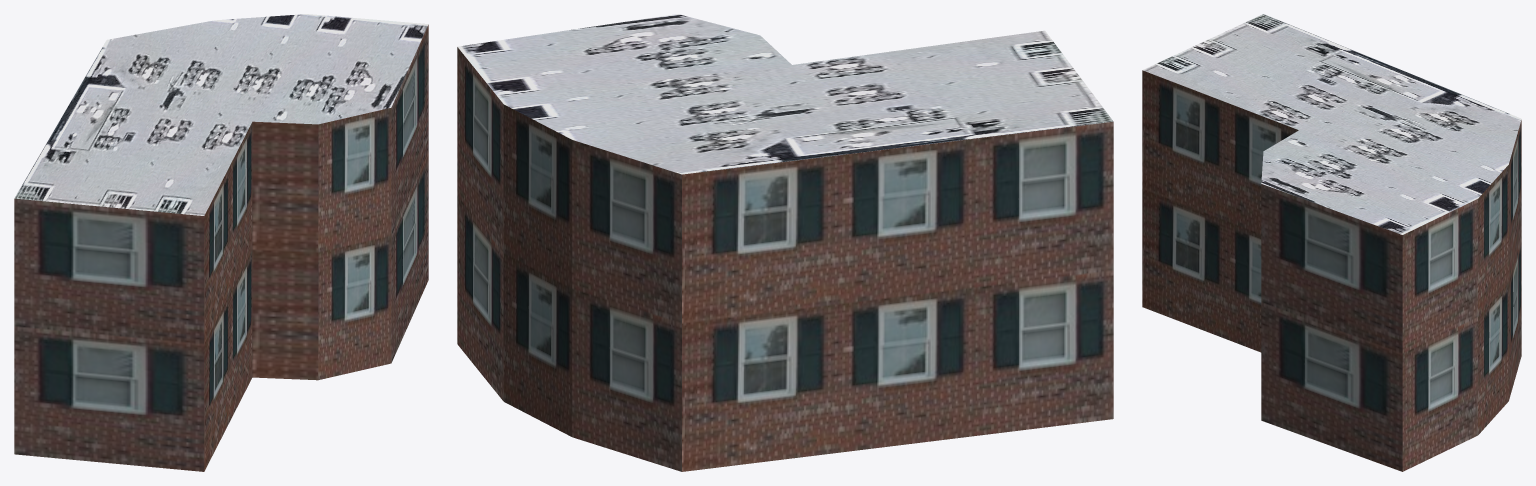
File: ResTex__3514.fbx
The picture shows the model from 3 angles, left to right: view 1: azimuth 30°, elevation 25°; view 2: azimuth 150°, elevation 25°; view 3: azimuth 270°, elevation 25°; orthographic projection. The views are drawn at different scales.
Visible parts, largest first — view 1: CityEngineMaterial_14_m, CityEngineMaterial_8_m; view 2: CityEngineMaterial_14_m, CityEngineMaterial_8_m; view 3: CityEngineMaterial_14_m, CityEngineMaterial_8_m.
Boxes of the visible parts, left/top/right/bottom form: CityEngineMaterial_14_m: left=14, top=25, right=428, bottom=471; CityEngineMaterial_8_m: left=14, top=14, right=428, bottom=215; CityEngineMaterial_14_m: left=457, top=47, right=1113, bottom=471; CityEngineMaterial_8_m: left=457, top=14, right=1113, bottom=174; CityEngineMaterial_14_m: left=1142, top=70, right=1521, bottom=471; CityEngineMaterial_8_m: left=1142, top=14, right=1521, bottom=234.
Bounding box in the file's own units: 12.01 × 6 × 8.71.
Materials: 2 (2 with a texture image).
